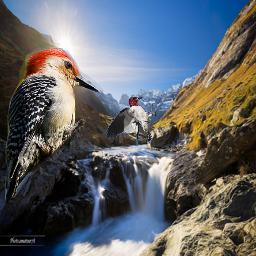Woodpecker: (5, 48, 105, 203), (106, 95, 156, 145)
